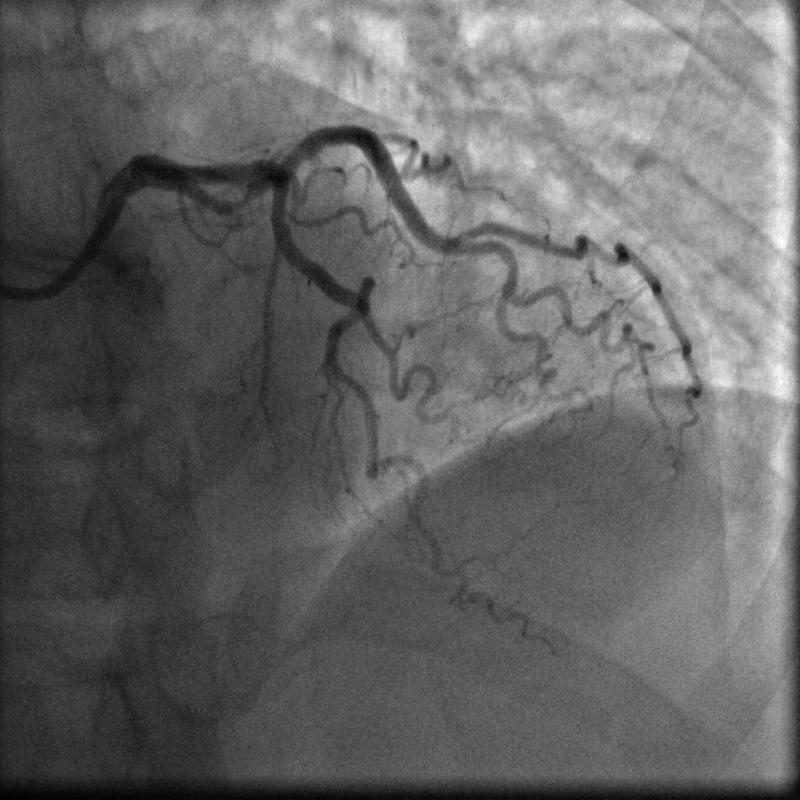Stenosis: (219, 178, 261, 213)
